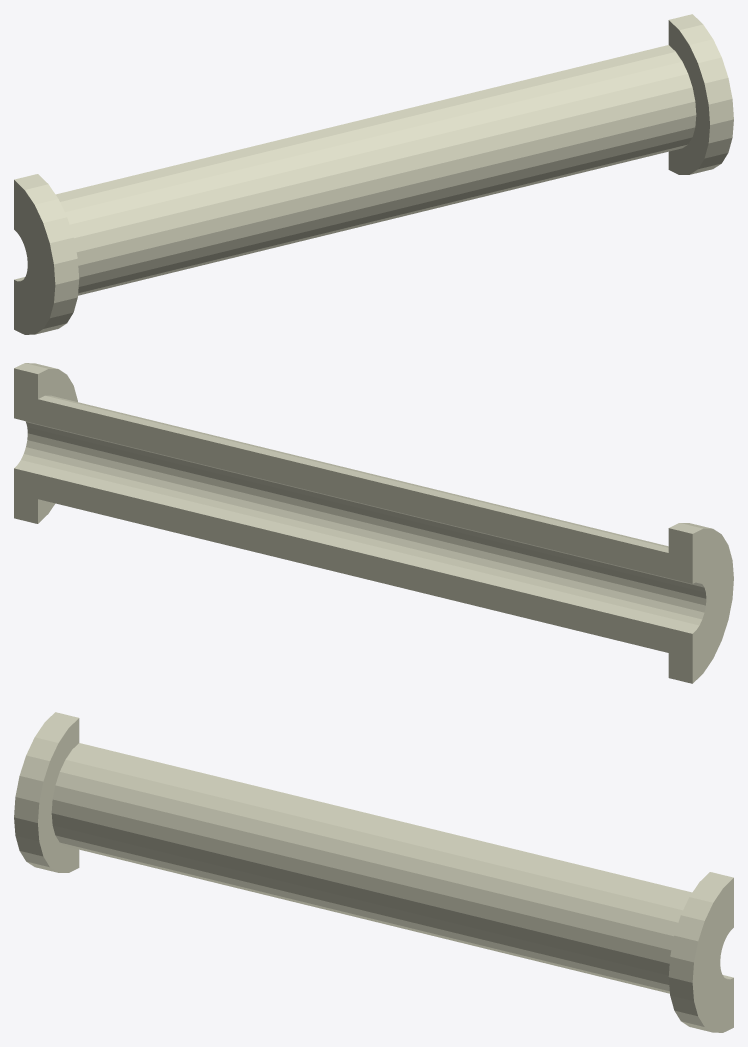
Rendered from section_303.obj.
The picture shows the model from 3 angles, top to bottom: view 1: azimuth 30°, elevation 25°; view 2: azimuth 150°, elevation 25°; view 3: azimuth 330°, elevation 25°; orthographic projection.
Size of the model in its own units: 28.41 by 6 by 3.
